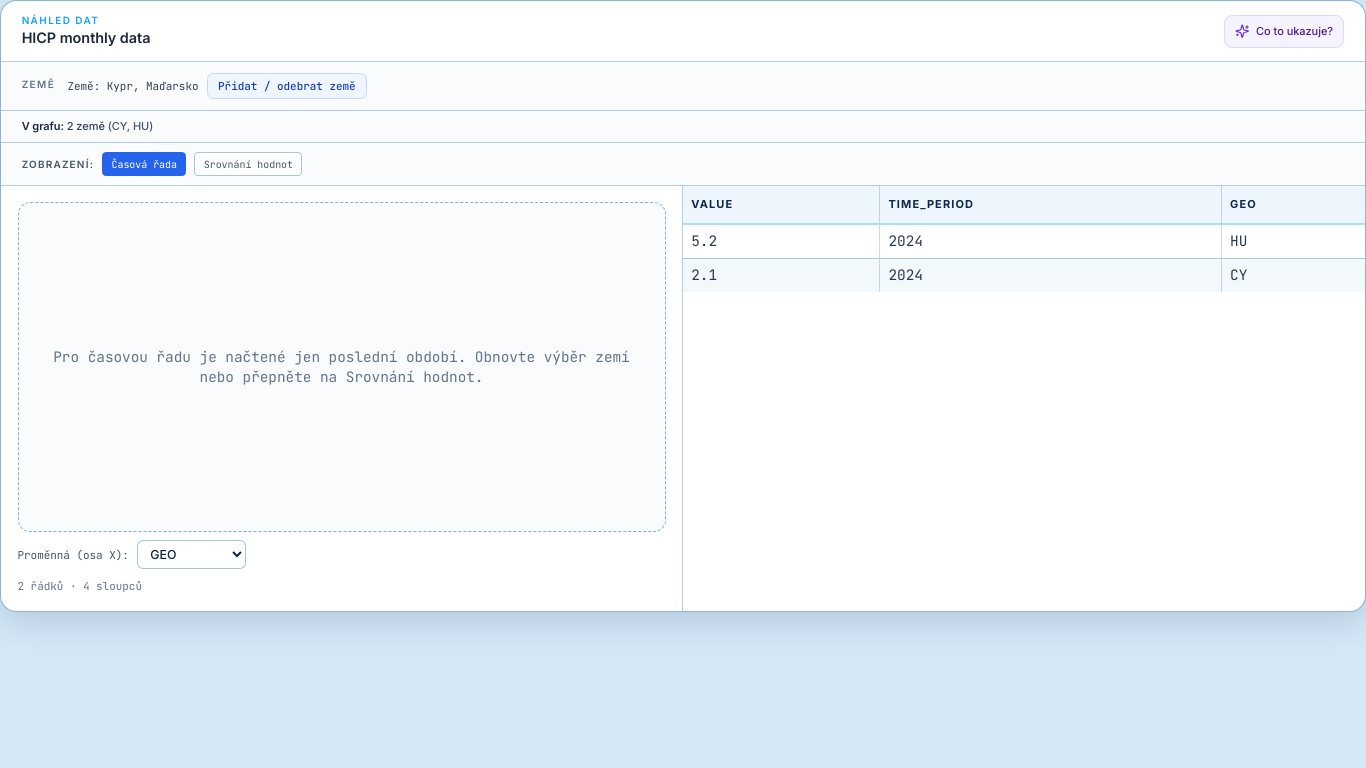
it: SourcePreview Eurostat filter UX › keeps metadata geo option AT after refetch returns only selected CY and HU rows
Click the button "Přidat / odebrat země".
click(287, 86)  # box [207,73,367,100]
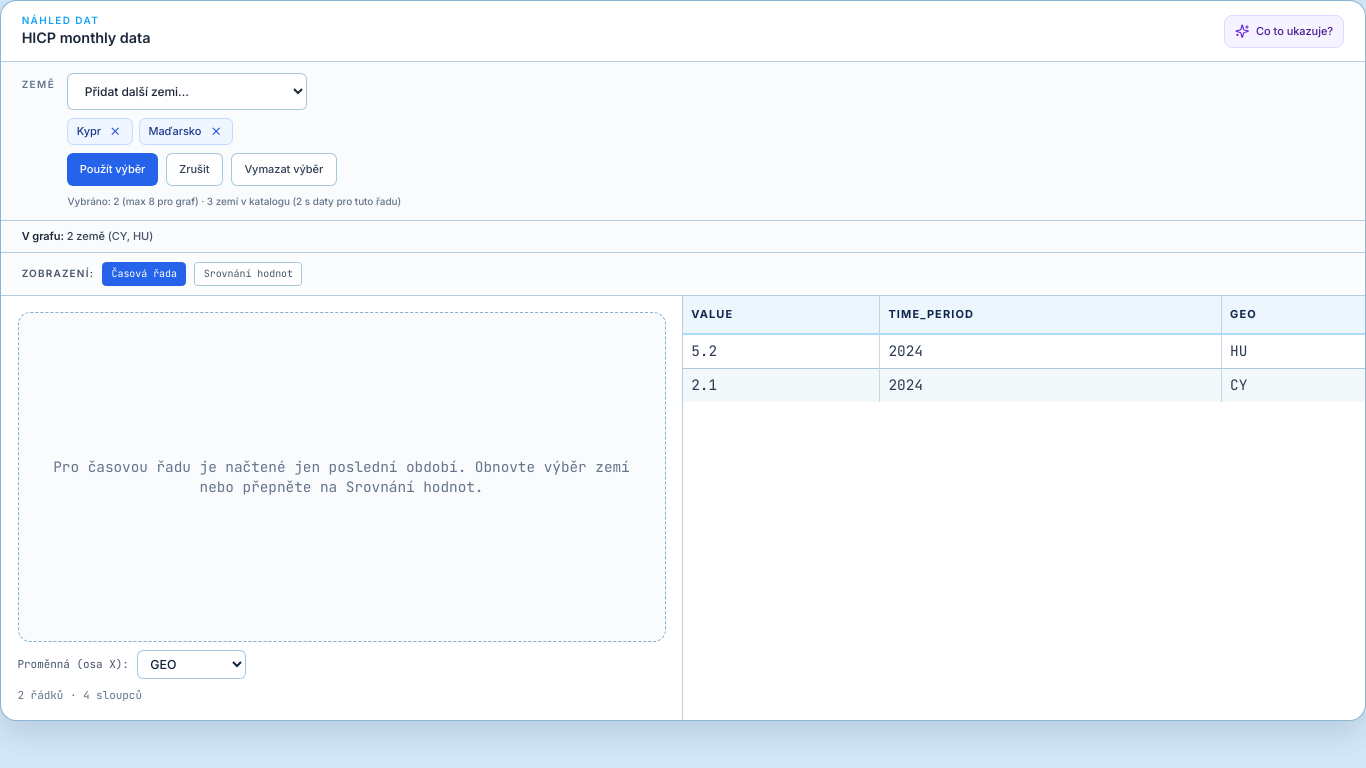
Check: the button named "Odebrat Kypr" is shown, box [107,123,124,140]
Check: the button named "Odebrat Maďarsko" is shown, box [207,123,224,140]
Check: the 1st dropdown is enabled, box [68,73,308,110]
